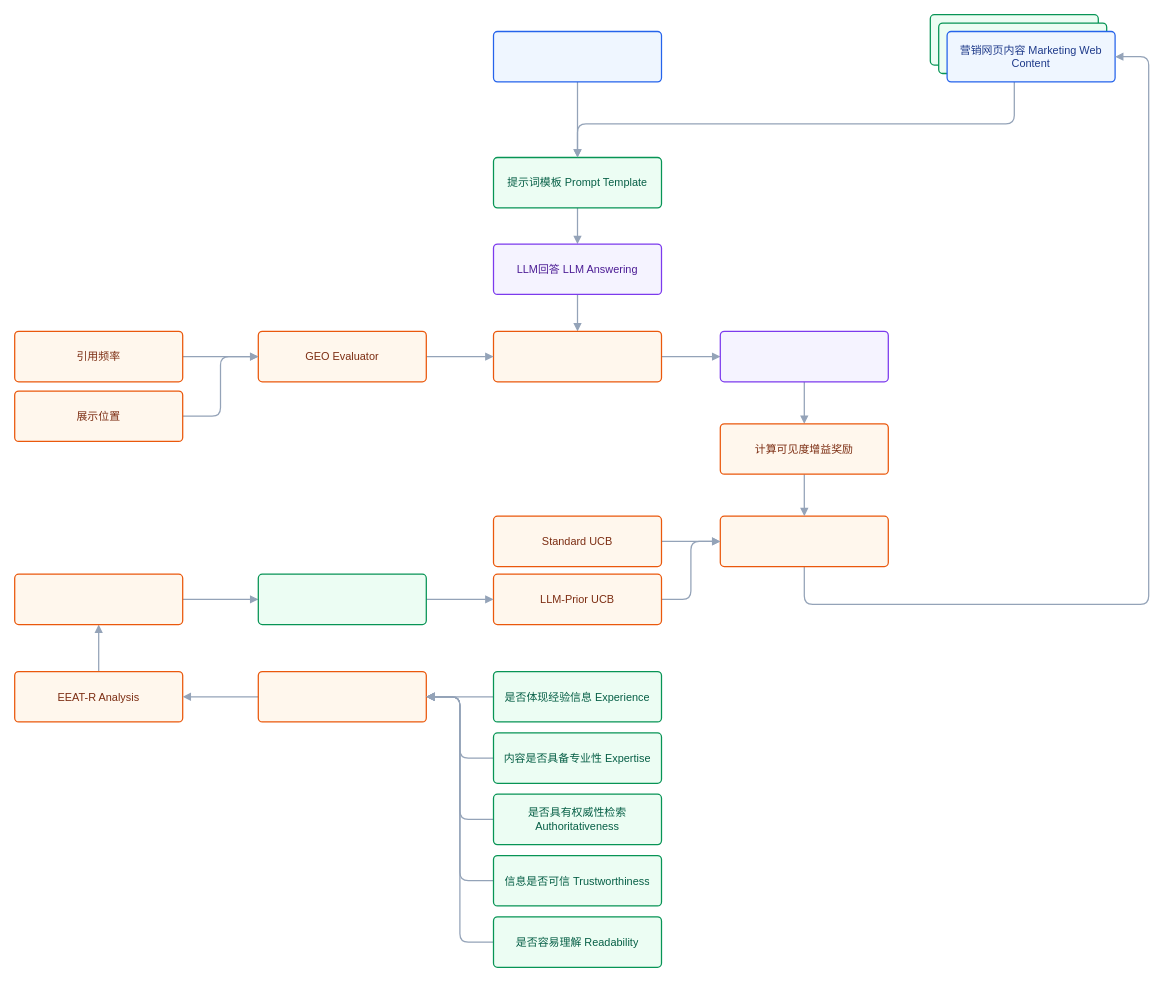
The diagram is 1171 pixels wide and 983 high, and some of its shapes have lost their labels. The shapes that lost their labels are listed below. From the top down, each one's box as (x1, y1, x2, y2) in pixels, then its label:
(492, 30, 662, 82): 用户输入 User Query
(492, 330, 662, 382): 输出结果评估 Output Validating
(719, 330, 889, 382): LLM改写 LLM Rewriting
(719, 515, 889, 567): Dual-UCB Controller 策略选择优化
(14, 573, 183, 625): Evaluation Agent
(257, 573, 427, 625): Sampling
(257, 671, 427, 722): Dimension
